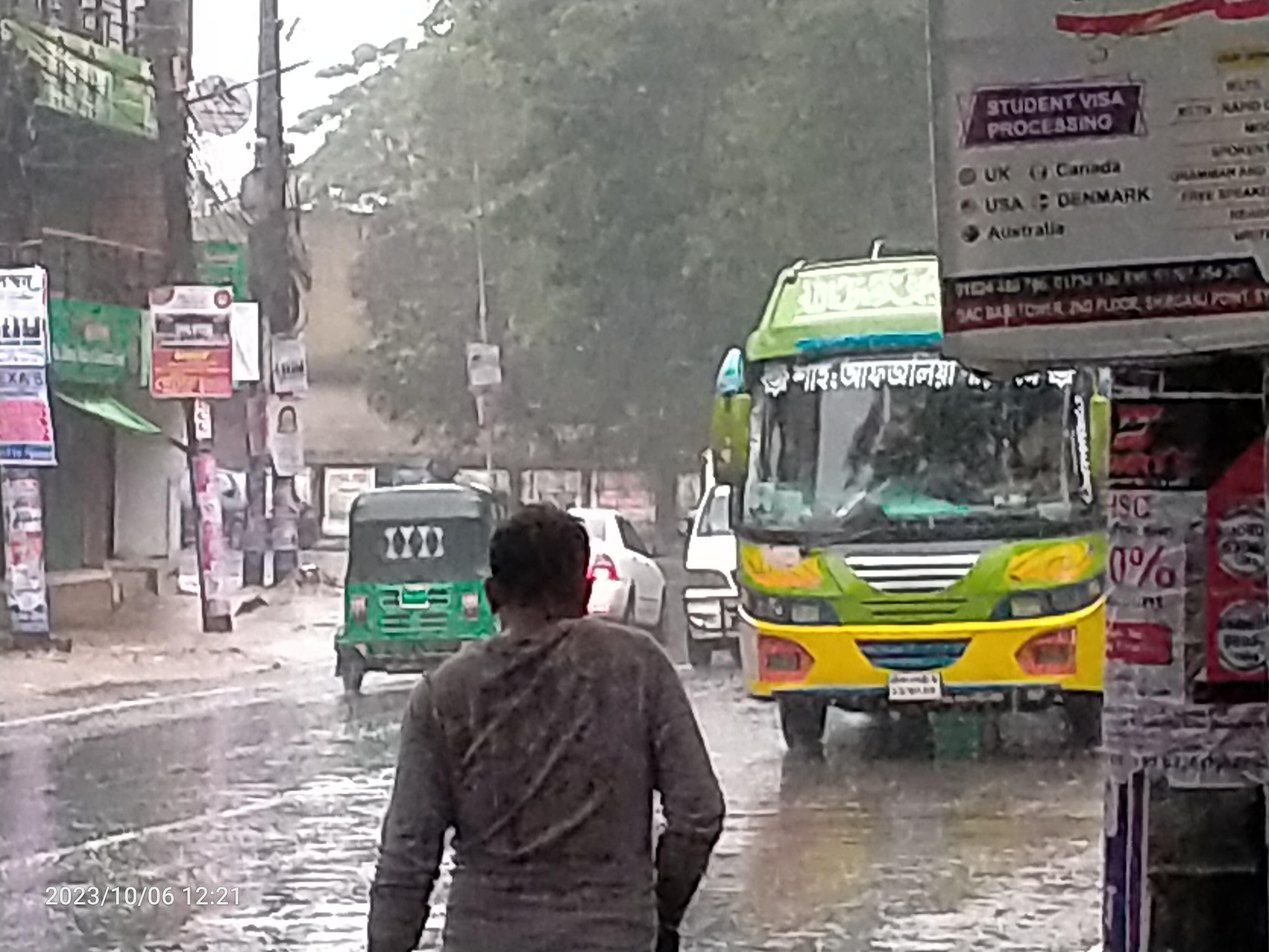Bus: (706, 202, 1121, 775)
Car: (575, 483, 674, 644)
